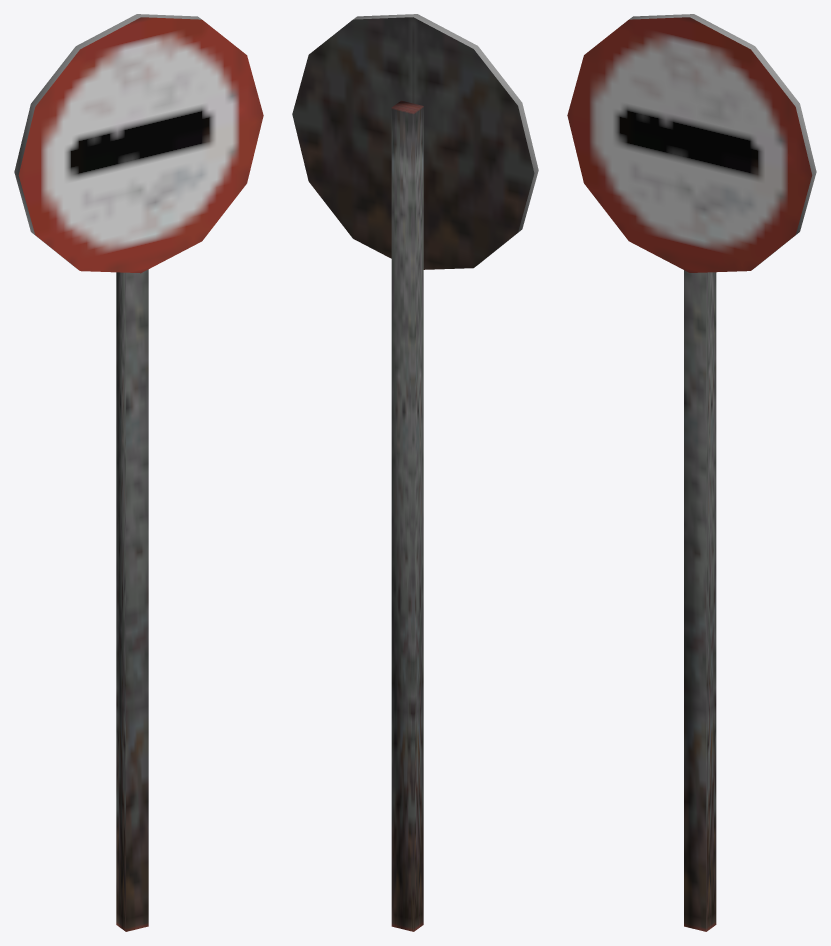
The model's file is RoadSign_03.glb.
The picture shows the model from 3 angles, left to right: view 1: azimuth 30°, elevation 25°; view 2: azimuth 150°, elevation 25°; view 3: azimuth 330°, elevation 25°; orthographic projection.
Parts seen in each view (by area): view 1: ROADSIGN_03; view 2: ROADSIGN_03; view 3: ROADSIGN_03.
Boxes of the visible parts, x1=… form: ROADSIGN_03: x1=14, y1=14, x2=263, y2=931; ROADSIGN_03: x1=292, y1=14, x2=538, y2=931; ROADSIGN_03: x1=567, y1=14, x2=816, y2=931.
Bounding box in the file's own units: 0.65 × 2.32 × 0.066.
Materials: 2 (1 with a texture image).
